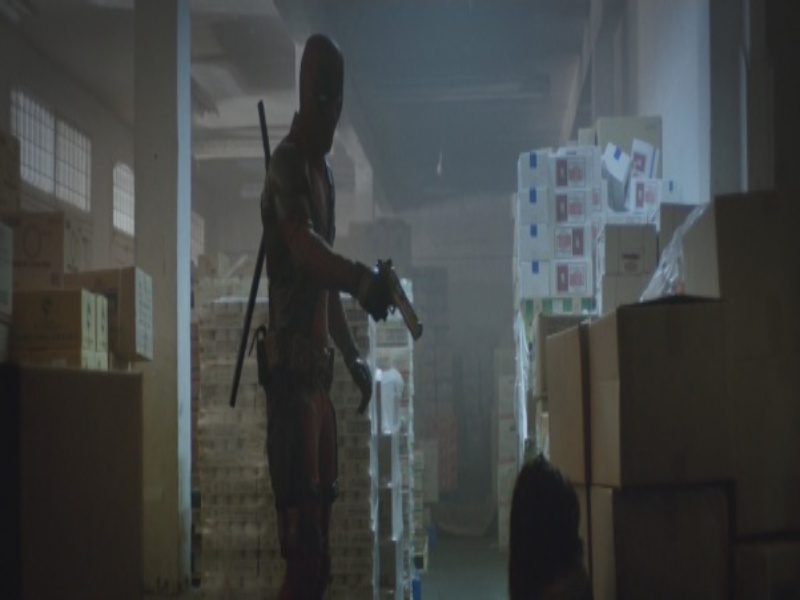person: (254, 33, 395, 596), (508, 453, 589, 598)
weapon: (375, 259, 424, 340)
